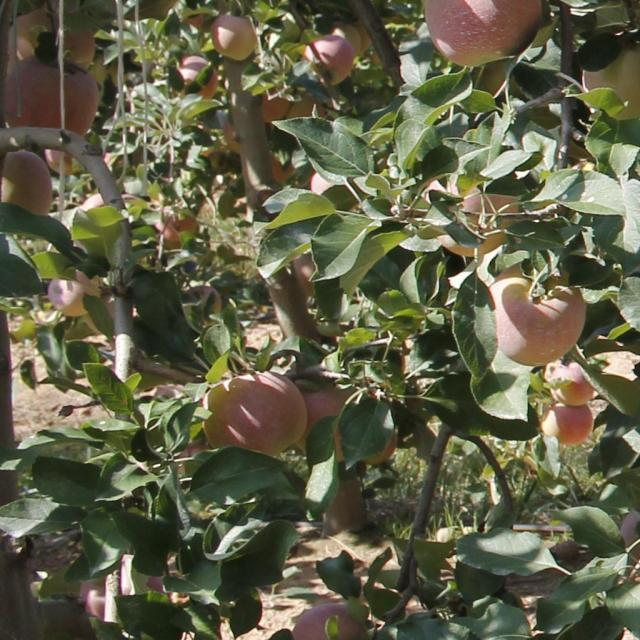apple: (490, 267, 585, 365), (204, 372, 307, 456), (5, 56, 97, 135), (2, 150, 51, 214), (304, 30, 354, 84), (49, 272, 98, 316), (541, 403, 593, 444), (212, 13, 257, 60)
